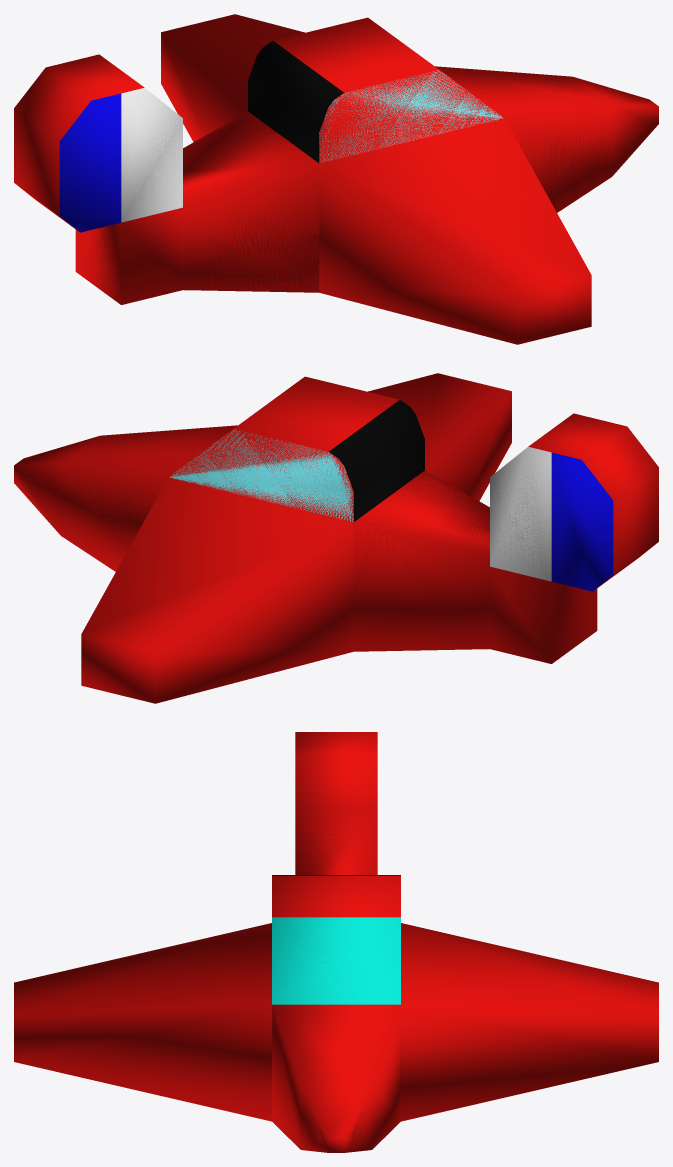
File: Toy Plane.fbx
3 views of the same model, one above another, from view 1: azimuth 30°, elevation 25°; view 2: azimuth 150°, elevation 25°; view 3: azimuth 270°, elevation 25° (orthographic). The views are drawn at different scales.
Parts seen in each view (by area): view 1: Cube.001; view 2: Cube.001; view 3: Cube.001.
Part boxes in pixels (bbox=[...]): Cube.001: bbox=[14, 14, 658, 344]; Cube.001: bbox=[14, 373, 658, 703]; Cube.001: bbox=[14, 732, 658, 1152].
Bounding box in the file's own units: 1000 × 364 × 1000.
